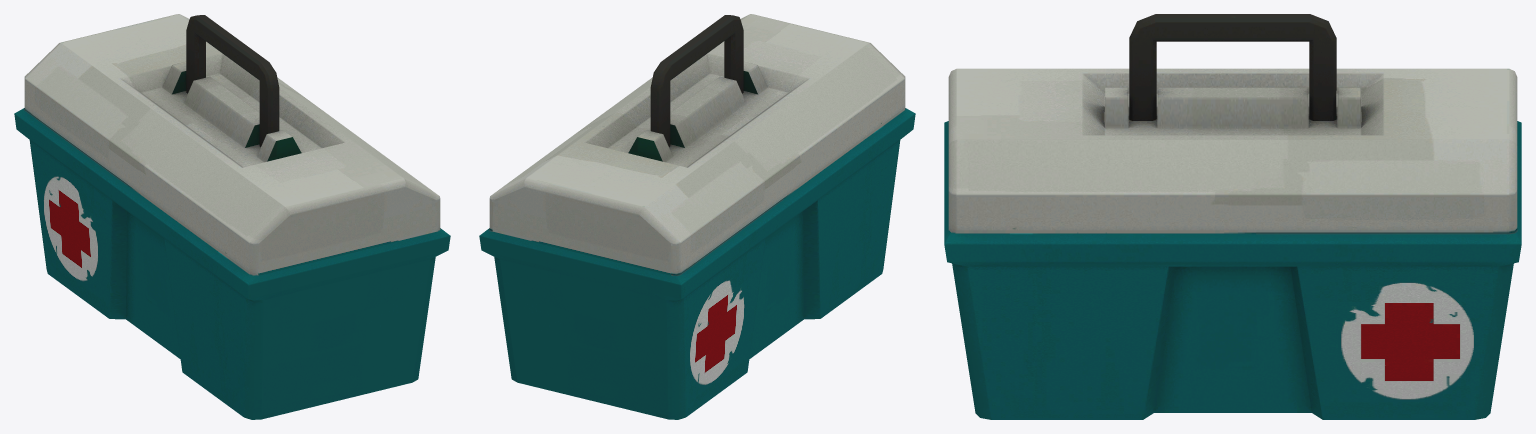
Rendered from health_kits.glb.
3 views of the same model, side by side, from view 1: azimuth 30°, elevation 25°; view 2: azimuth 150°, elevation 25°; view 3: azimuth 270°, elevation 25° (orthographic). The views are drawn at different scales.
Visible parts, largest first — view 1: medkit_large.qc_skeleton; view 2: medkit_large.qc_skeleton; view 3: medkit_large.qc_skeleton.
Part boxes in pixels (box(x1,y1,x2,y2)): medkit_large.qc_skeleton: box(14, 14, 450, 419); medkit_large.qc_skeleton: box(479, 14, 915, 419); medkit_large.qc_skeleton: box(944, 14, 1521, 419).
Size of the model in its own units: 16.67 by 22.55 by 33.52.
Materials: 1 (1 with a texture image).
